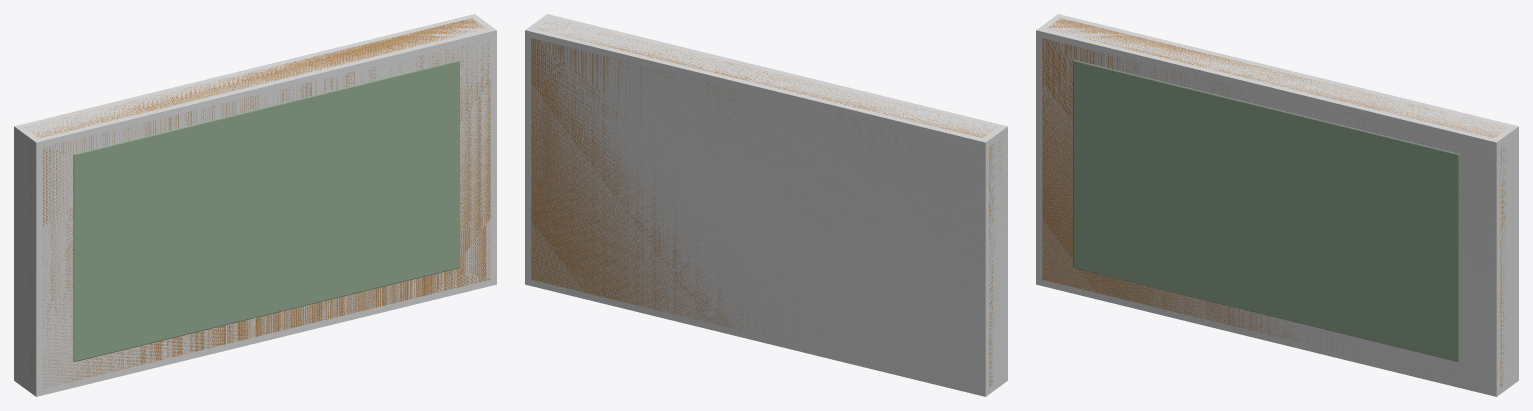
File: signage_retail.glb
The picture shows the model from 3 angles, left to right: view 1: azimuth 30°, elevation 25°; view 2: azimuth 150°, elevation 25°; view 3: azimuth 330°, elevation 25°; orthographic projection.
Visible parts, largest first — view 1: MESH_Inset, COL_signage, MESH_Frame; view 2: COL_signage, MESH_Frame; view 3: MESH_Inset, COL_signage, MESH_Frame.
Boxes of the visible parts, x1,y1,x2,y2 form: MESH_Inset: (73,60,459,361); COL_signage: (14,14,496,396); MESH_Frame: (26,18,490,388); COL_signage: (525,14,1007,396); MESH_Frame: (531,18,1004,386); MESH_Inset: (1073,60,1459,361); COL_signage: (1036,14,1518,396); MESH_Frame: (1042,18,1507,386).
Bounding box in the file's own units: 0.72 × 0.38 × 0.0612.
